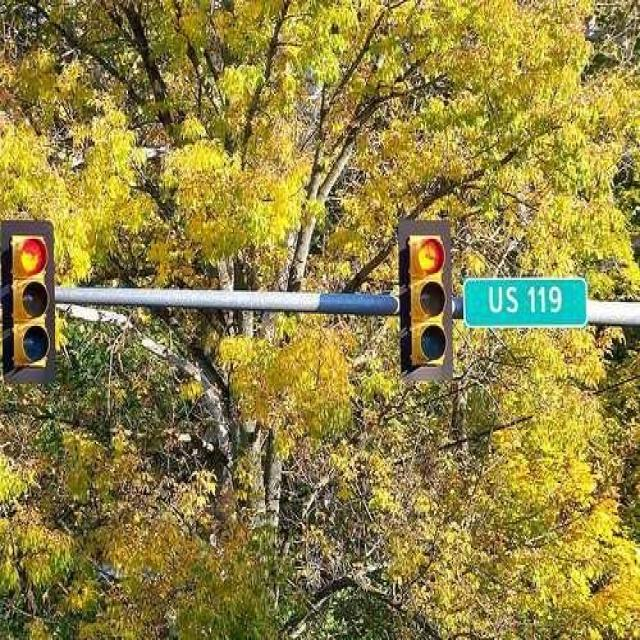Traffic Light -Red-: (406, 227, 454, 372), (11, 225, 56, 372)
